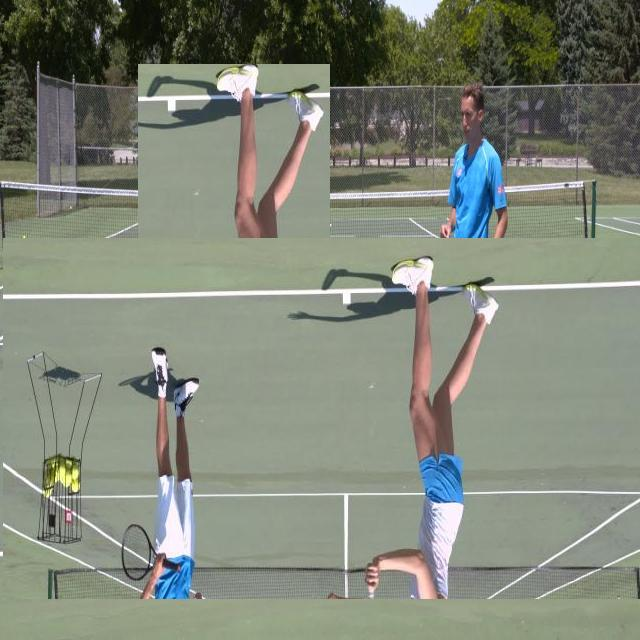court: (3, 238, 640, 599)
net: (0, 161, 606, 282)
player: (138, 64, 330, 580)
